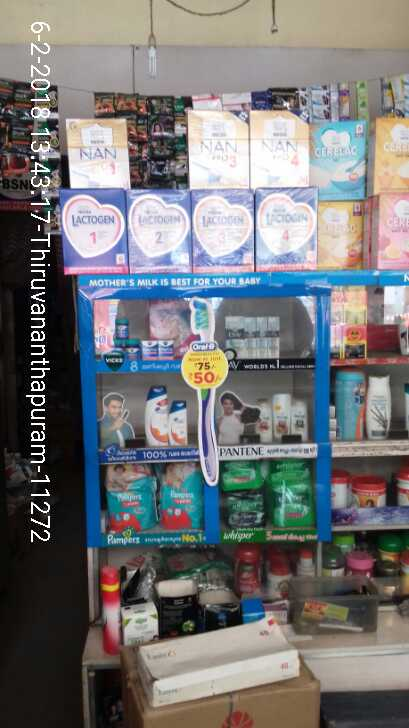vicks: (105, 316, 179, 358)
